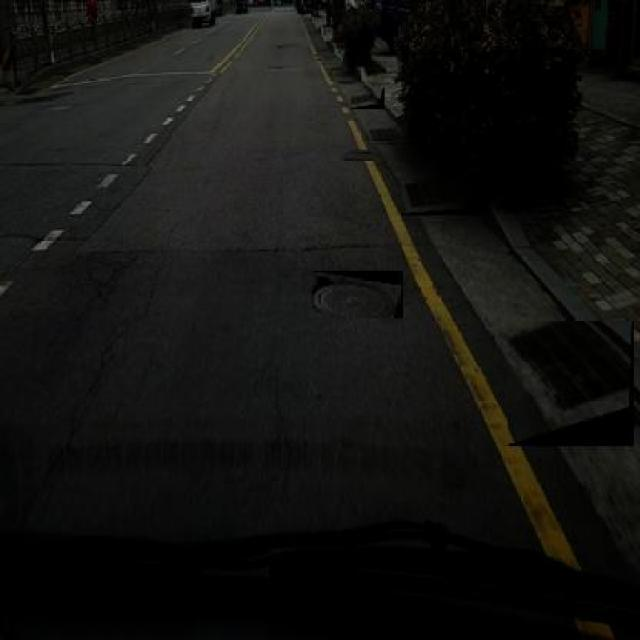Manhole: (507, 320, 635, 446), (312, 270, 403, 318), (400, 176, 480, 215), (370, 124, 416, 146), (351, 88, 384, 109)
